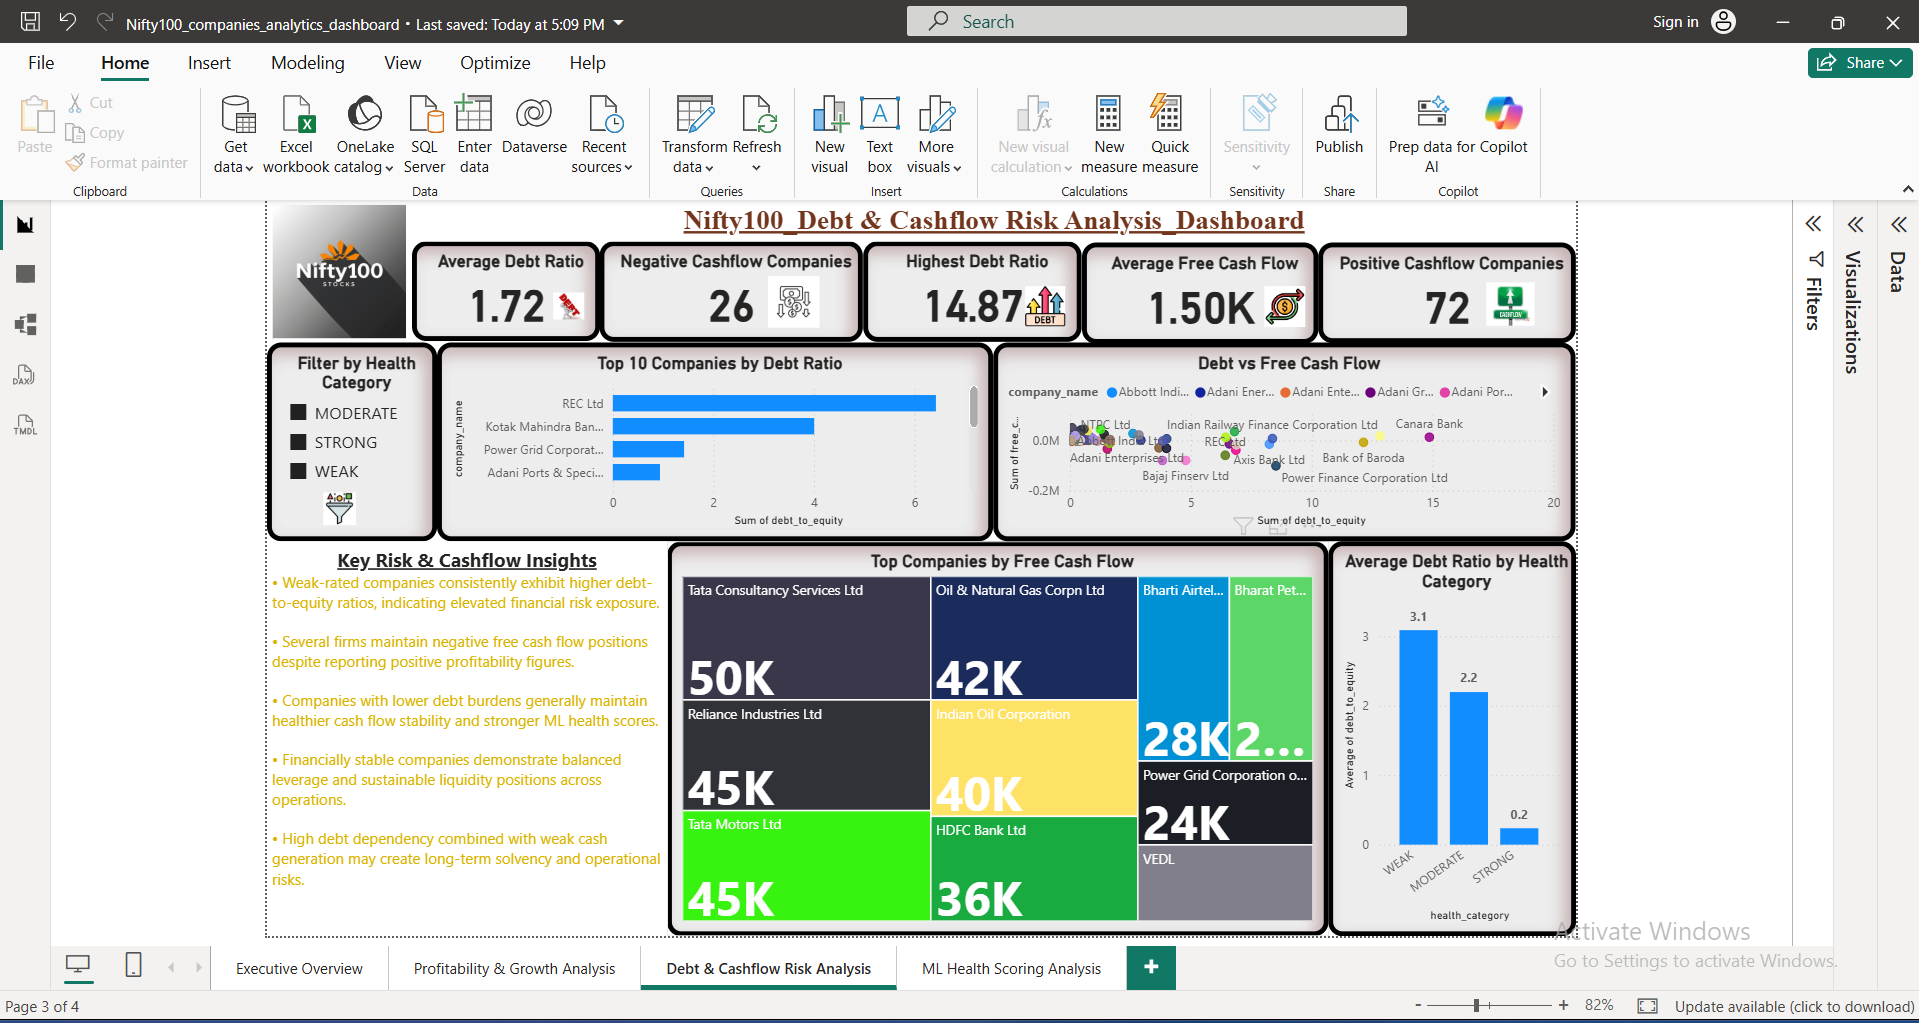

This screenshot's page, from the dashboard's own definition file:
{"tool":"powerbi","page":{"name":"Debt & Cashflow Risk Analysis","canvas":[1280,720],"ordinal":2},"visuals":[{"type":"card","title":"Average Debt Ratio","fields":{"Values":["Avg(company_health_scores.debt_to_equity)"]},"box":[141.4,39.8,184.2,97.2],"z":0},{"type":"card","title":"Highest Debt Ratio","fields":{"Values":["Max(company_health_scores.debt_to_equity)"]},"box":[583.4,39.8,213.6,98.7],"z":1000},{"type":"card","title":"Average Free Cash Flow","fields":{"Values":["Avg(company_health_scores.free_cash_flow)"]},"box":[797.1,38.3,231.3,98.7],"z":2000},{"type":"card","title":"Positive Cashflow Companies","fields":{"Values":["Count(company_health_scores.company_name)"]},"box":[1028.4,41.3,251.9,98.7],"z":3000},{"type":"card","title":"Negative Cashflow Companies","fields":{"Values":["Count(company_health_scores.company_name)"]},"box":[325.6,39.8,257.8,98.7],"z":4000},{"type":"slicer","title":"Filter by Health Category","fields":{"Values":["company_health_scores.health_category"]},"box":[0,140,166.5,256.4],"z":5000},{"type":"image","box":[0,0,141.4,140],"z":6000},{"type":"textbox","box":[141.3,0,1138.9,41.2],"z":7000},{"type":"clusteredBarChart","title":"Top 10 Companies by Debt Ratio","fields":{"Category":["company_health_scores.company_name"],"Y":["Sum(company_health_scores.debt_to_equity)"]},"box":[166.5,140,543.6,256.4],"z":8000},{"type":"treemap","title":"Top Companies by Free Cash Flow","fields":{"Values":["Sum(company_health_scores.free_cash_flow)"],"Details":["company_health_scores.company_name"]},"box":[0,396.3,913.4,324.1],"z":9000},{"type":"scatterChart","title":"Debt vs Free Cash Flow","fields":{"X":["Sum(company_health_scores.debt_to_equity)"],"Y":["Sum(company_health_scores.free_cash_flow)"],"Category":["company_health_scores.company_name"],"Series":["company_health_scores.company_name"]},"box":[710.1,140,570.2,256.4],"z":10000},{"type":"clusteredColumnChart","title":"Average Debt Ratio by Health Category","fields":{"Category":["company_health_scores.health_category"],"Y":["Avg(company_health_scores.debt_to_equity)"]},"box":[913.4,396.3,366.9,324.1],"z":11000}]}

Visuals, with their boxes on the page's 1280x720 design canvas (x1, y1, x2, y2). These are canvas units, not pixel positions in the 1919x1023 screenshot, which may show the page scaled, cropped or inside an application window:
"Average Debt Ratio" card: region(141, 40, 326, 137)
"Highest Debt Ratio" card: region(583, 40, 797, 138)
"Average Free Cash Flow" card: region(797, 38, 1028, 137)
"Positive Cashflow Companies" card: region(1028, 41, 1280, 140)
"Negative Cashflow Companies" card: region(326, 40, 583, 138)
"Filter by Health Category" slicer: region(0, 140, 166, 396)
image: region(0, 0, 141, 140)
textbox: region(141, 0, 1280, 41)
"Top 10 Companies by Debt Ratio" clusteredBarChart: region(166, 140, 710, 396)
"Top Companies by Free Cash Flow" treemap: region(0, 396, 913, 720)
"Debt vs Free Cash Flow" scatterChart: region(710, 140, 1280, 396)
"Average Debt Ratio by Health Category" clusteredColumnChart: region(913, 396, 1280, 720)
